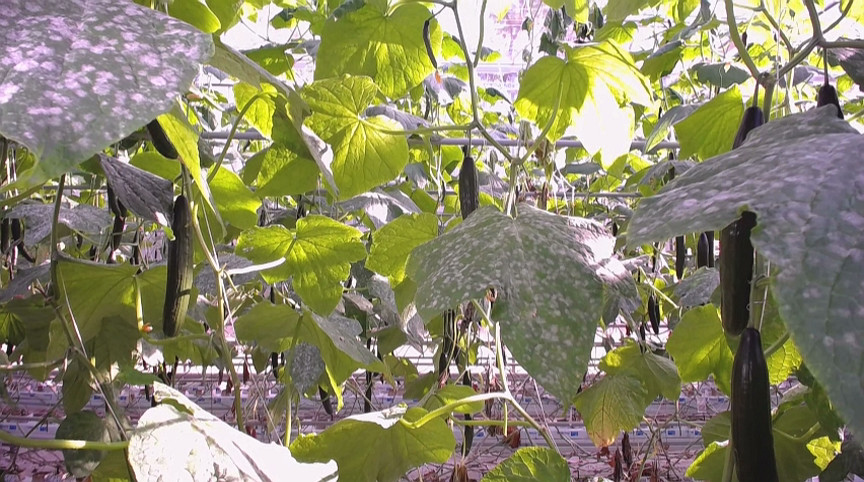cucumber: (719, 106, 764, 335), (729, 329, 781, 482), (165, 195, 194, 336), (458, 157, 482, 218), (145, 117, 178, 161)
